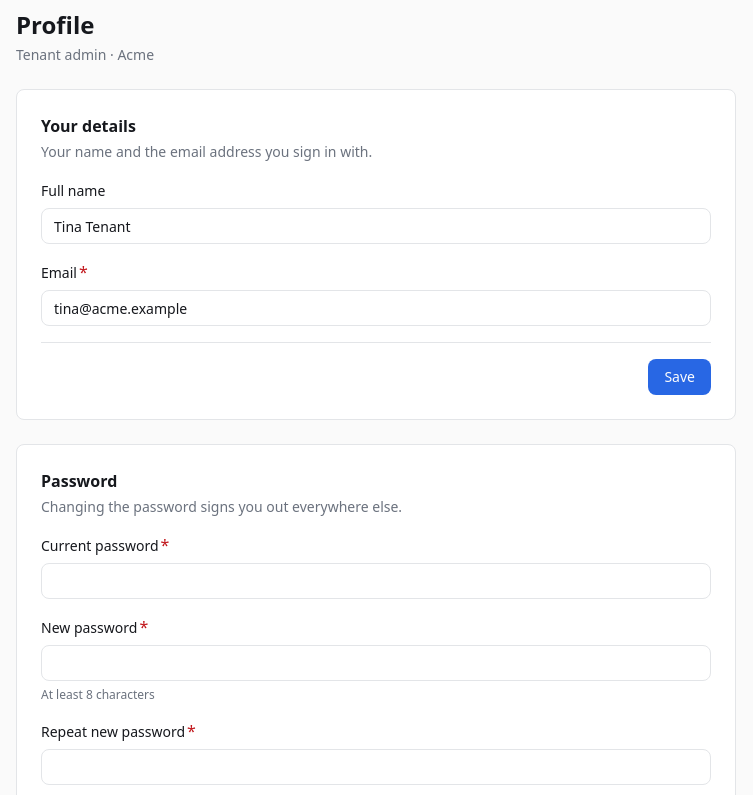
Test: ProfilePage › shows role and tenant and saves the details
Expected: the text "Tenant admin · Acme" is shown, [16,45,154,65]
Replace the text in the field labelled "Full name" with "Tina Changed". click: (376, 226)
box: [41,208,711,244]
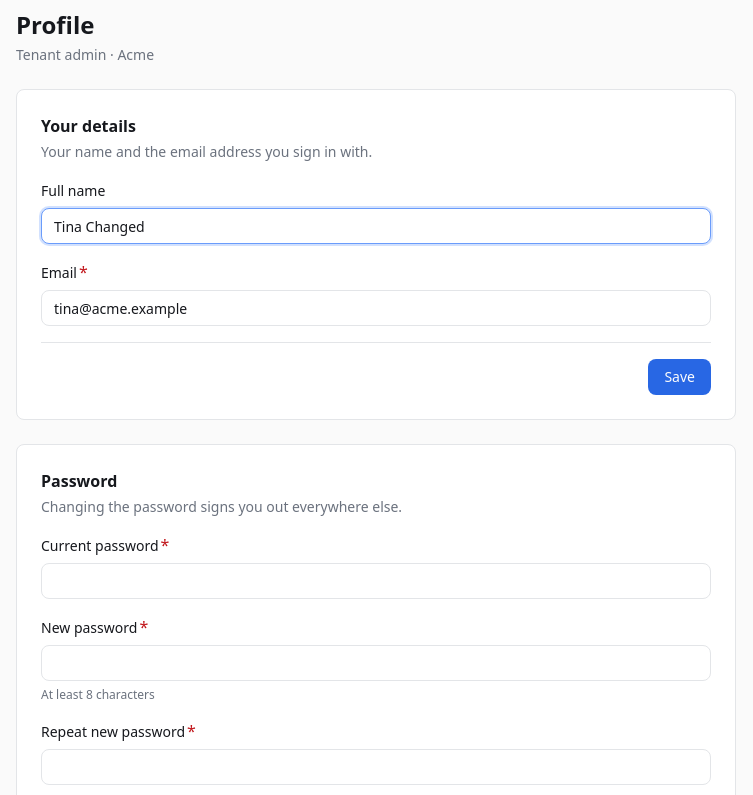
Click the button "Save". click: click(680, 377)
box: [648,359,711,395]
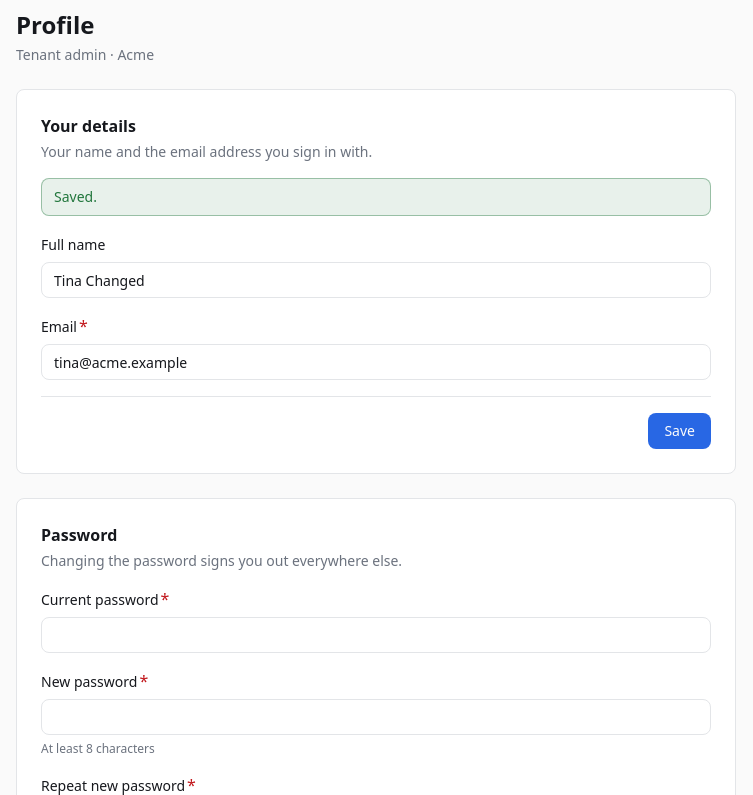
Now the text "Saved." is shown, box [41,178,711,216]
